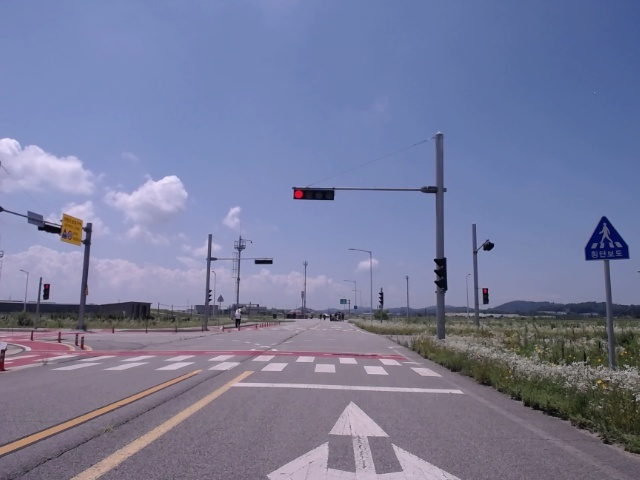red_4: (293, 190, 334, 200)
